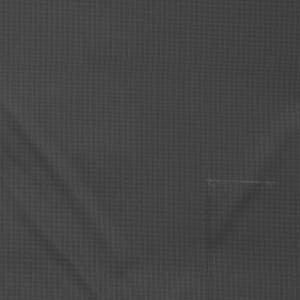Wrinkle: (1, 100, 157, 300), (192, 89, 300, 300)
